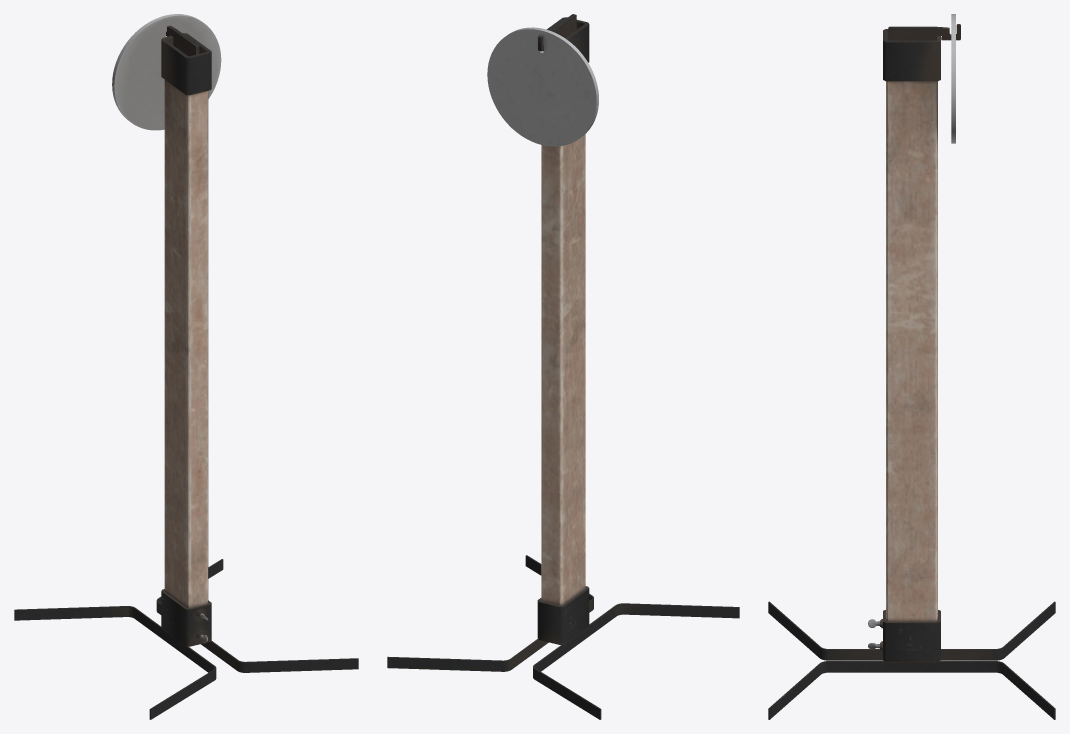
File: steel10.gltf
3 renders of one model, left to right at view 1: azimuth 30°, elevation 25°; view 2: azimuth 150°, elevation 25°; view 3: azimuth 270°, elevation 25°, orthographic. The views are drawn at different scales.
Parts seen in each view (by area): view 1: Stand; view 2: Stand; view 3: Stand.
Boxes of the visible parts, left/top/right/bottom form: Stand: left=14, top=14, right=358, bottom=719; Stand: left=387, top=14, right=739, bottom=719; Stand: left=768, top=14, right=1055, bottom=719.
Size of the model in its own units: 0.4932 by 1.39 by 0.5584.
1 material, 1 textured.
